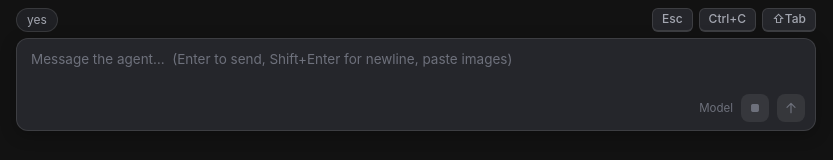
Test case: Composer completion › inserts the chosen slash command without sending and counts the pick
Replace the text in the text box with "/c" at (418, 70), box left=31, top=49, right=805, bottom=90
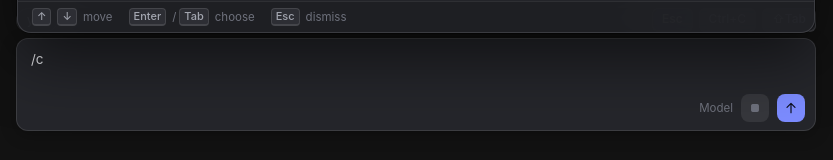
Check: the text "dismiss" is shown, box left=306, top=10, right=346, bottom=24
Press ArrowDown in the text box, box left=31, top=49, right=805, bottom=90
Press Enter in the text box, box left=31, top=49, right=805, bottom=90
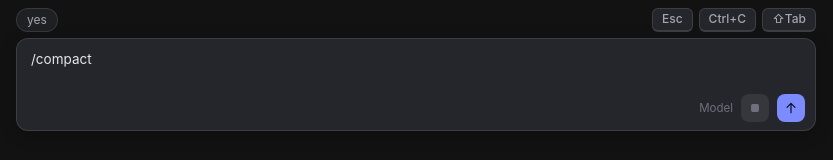
Check: the text box holds "/compact ", box left=31, top=49, right=805, bottom=90
